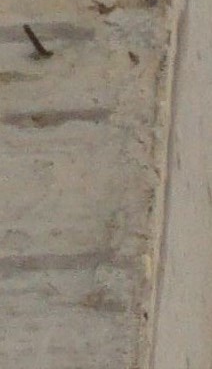Exposed reinforcement: (21, 23, 49, 57)
